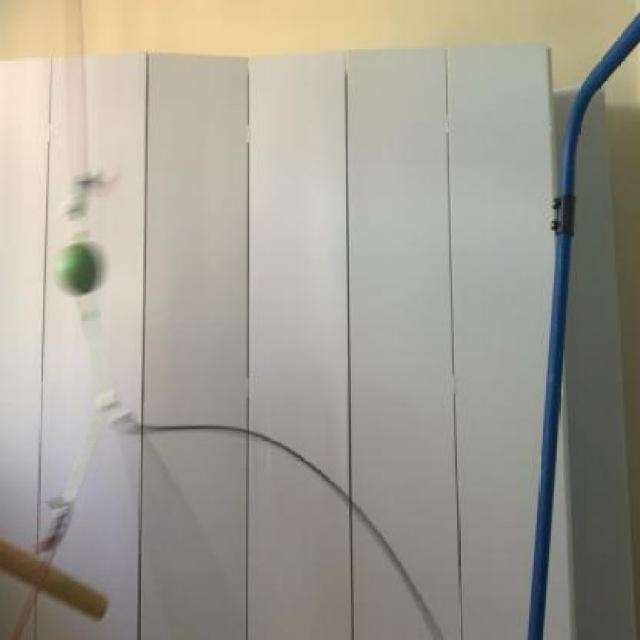baseball: (50, 232, 115, 302)
